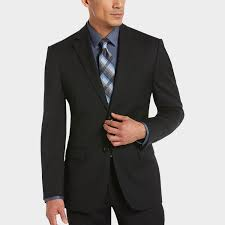F_M_suit jacket: (35, 22, 186, 215)
F_tie: (93, 34, 119, 102)
